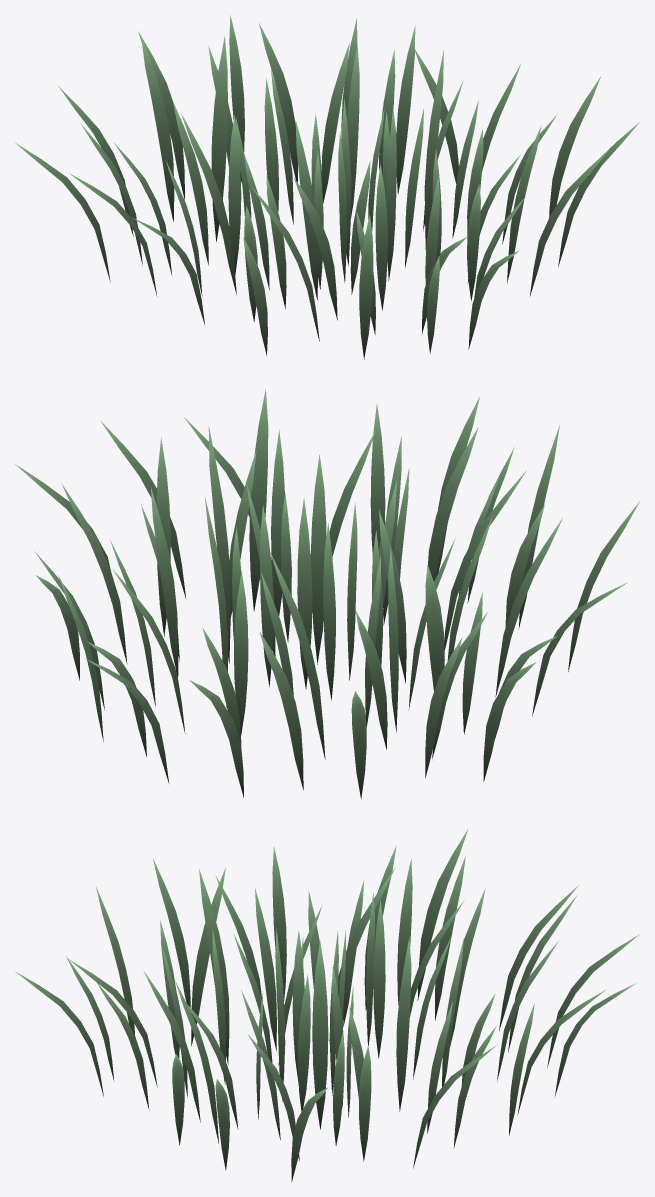
Rendered from Grass.fbx.
3 renders of one model, top to bottom at view 1: azimuth 30°, elevation 25°; view 2: azimuth 150°, elevation 25°; view 3: azimuth 270°, elevation 25°, orthographic. The views are drawn at different scales.
Visible parts, largest first — view 1: Grass; view 2: Grass; view 3: Grass.
Boxes of the visible parts, bbox=[...] form: Grass: bbox=[15, 15, 639, 359]; Grass: bbox=[15, 389, 639, 799]; Grass: bbox=[15, 829, 639, 1181].
Size of the model in its own units: 358 by 133 by 379.
